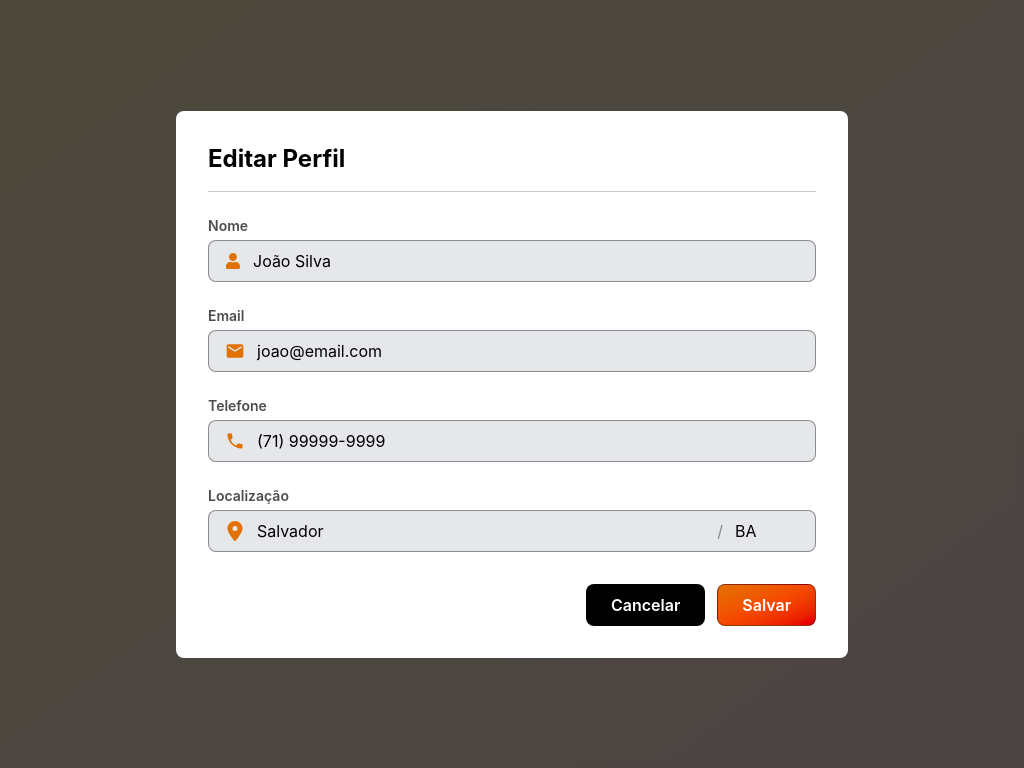
Test: shows error when email is invalid
Replace the text in the field with placeholder "Seu email" below "Email" with "emailinvalido" at {"x": 528, "y": 350}, box x1=257 y1=338 x2=799 y2=362
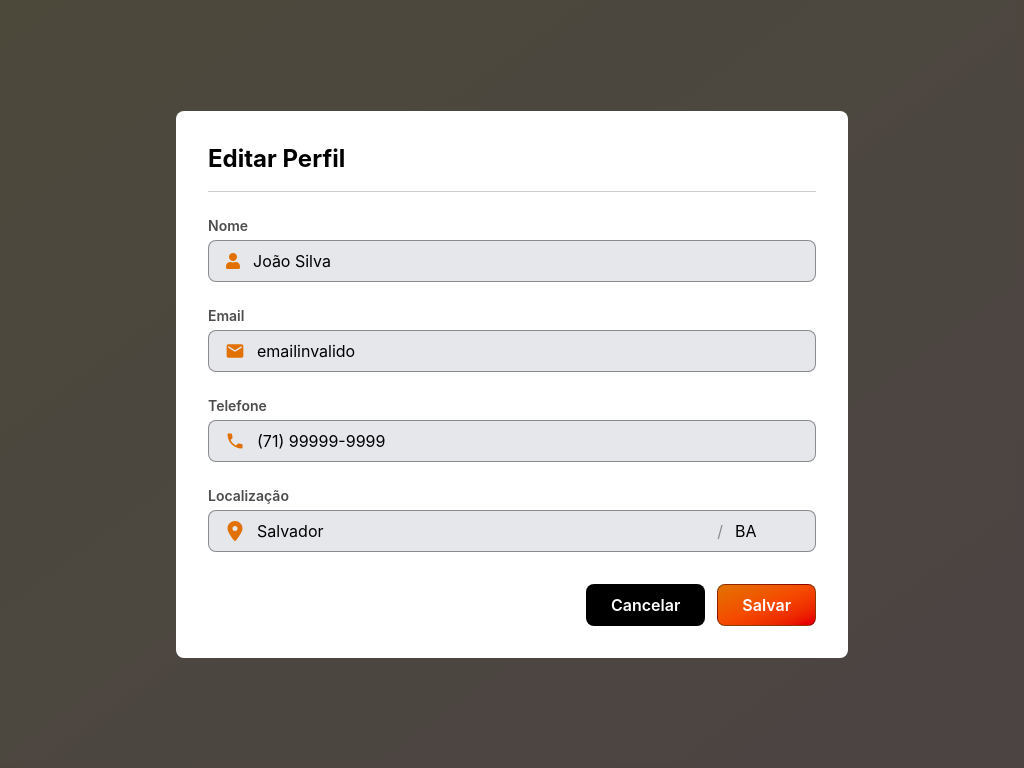
Click the button "Salvar" at {"x": 767, "y": 604}, box x1=717 y1=584 x2=816 y2=626
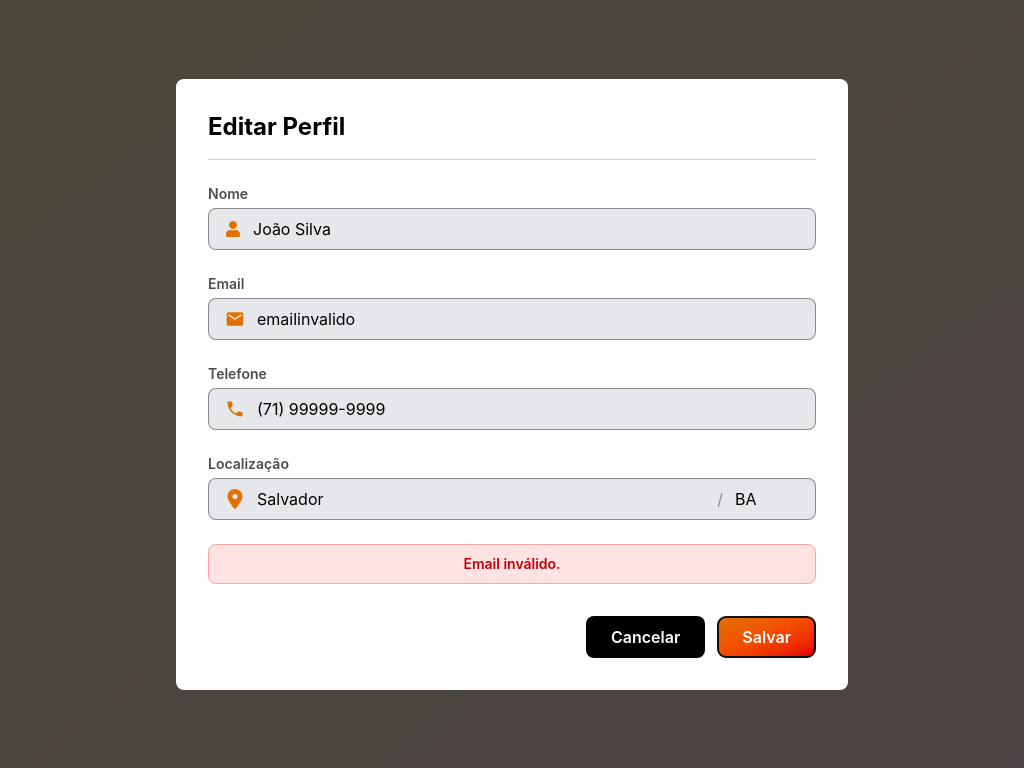
Now the text "Email inválido." is shown, box x1=208 y1=544 x2=816 y2=584
